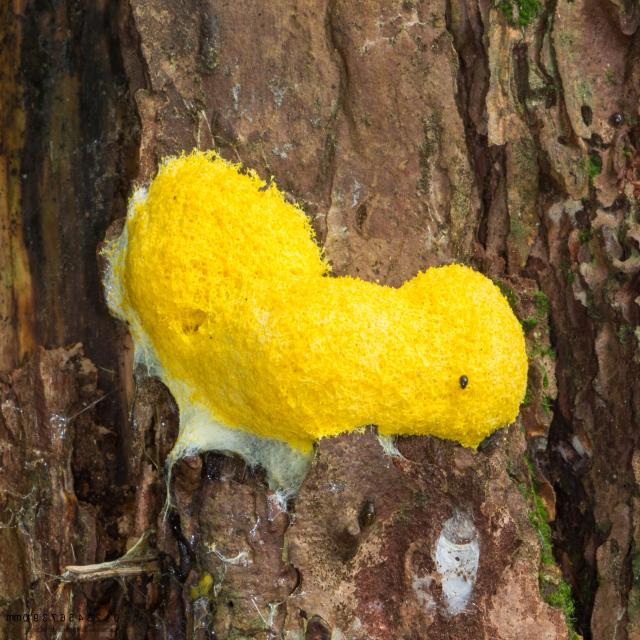Dog_vomit_slime_mold: (92, 107, 569, 509)
